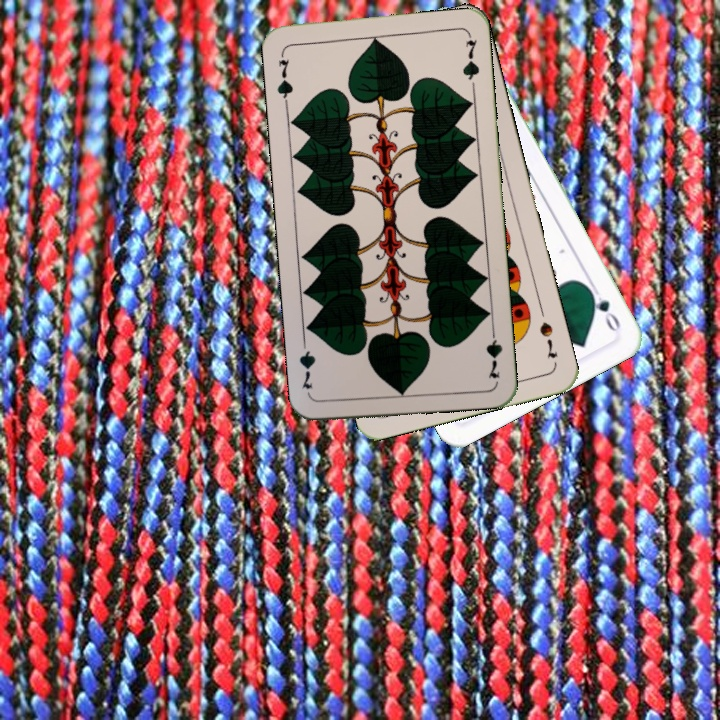G7: (482, 322, 505, 381), (273, 54, 295, 107)
GO: (583, 280, 623, 335)
S7: (535, 318, 561, 361)
